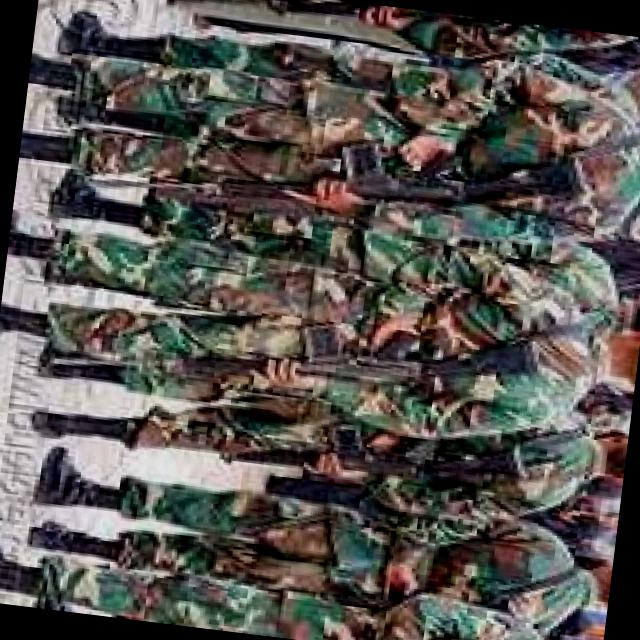long weapon: (164, 81, 593, 259), (137, 284, 535, 438)
